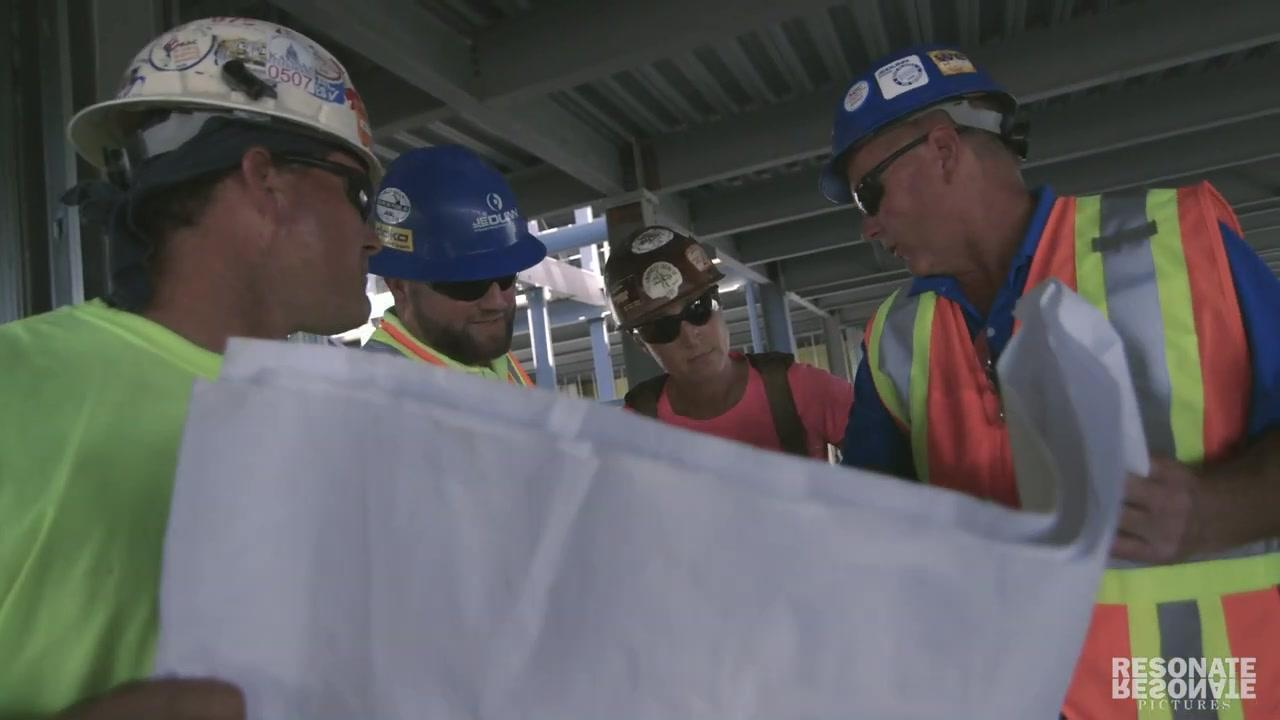vest: (862, 176, 1278, 716), (365, 309, 539, 387)
